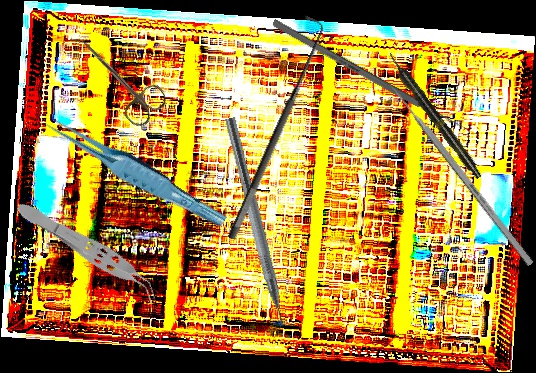Chopper: (208, 116, 295, 344)
Handpiece: (384, 49, 485, 182)
Hook Surgical: (210, 15, 334, 242)
Iris Scissors: (64, 26, 172, 131)
Pusher: (383, 77, 535, 267), (271, 18, 476, 138)
Tissue Forceps: (42, 101, 228, 241), (11, 195, 166, 306)
